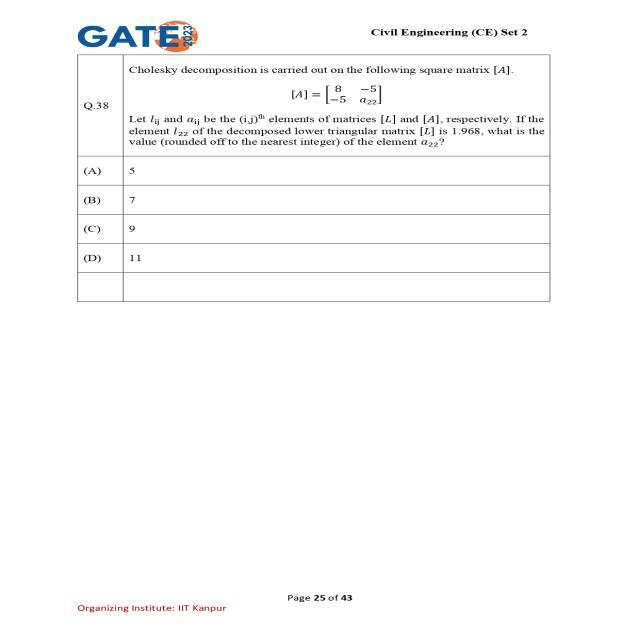Answer_Block: (68, 157, 583, 316)
Question_Answer_Block: (68, 52, 583, 316)
Question_Block: (68, 52, 583, 154)
Question_Paper_Area: (68, 52, 583, 316)
